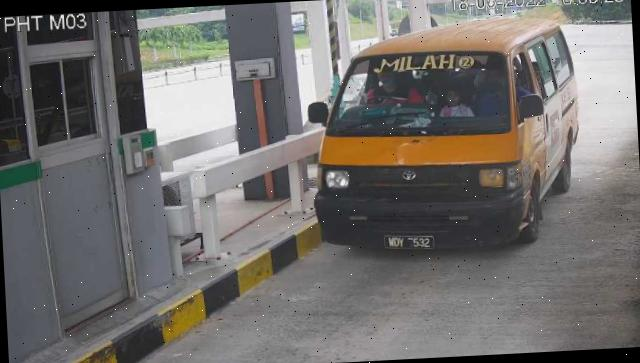License_Plate: (384, 233, 437, 257)
van: (307, 15, 586, 259)
